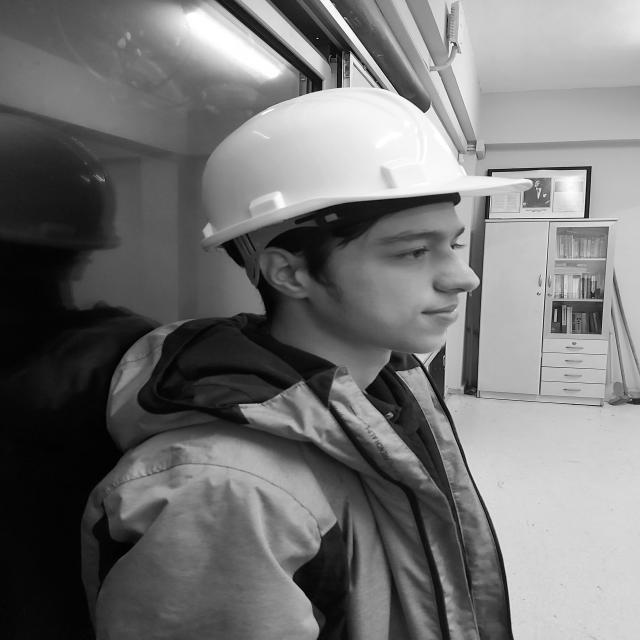safety_helmet: (200, 90, 525, 247)
